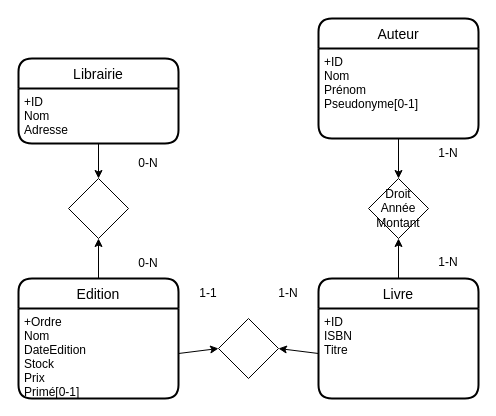
This 496x416 diagram has some shape labels left out. Each missing label, with the centre of its shape:
A Quantité: point 98,208
Tiré: point 248,348
